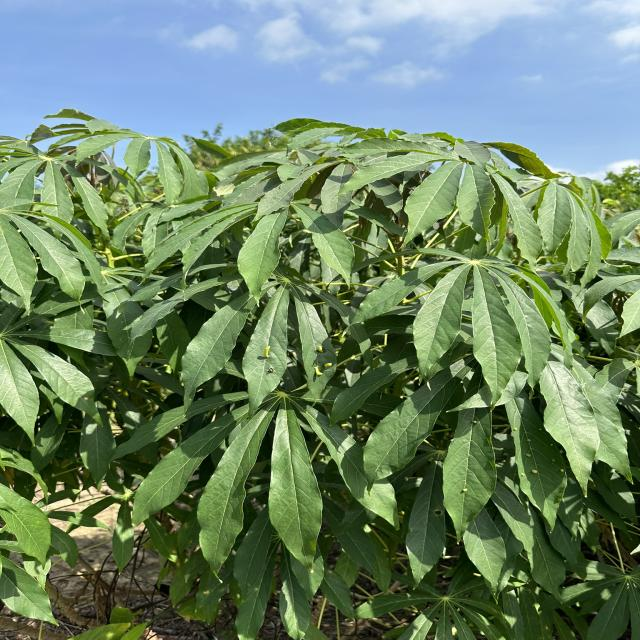Mosca: (520, 429, 539, 462), (310, 357, 334, 379), (222, 540, 245, 559), (549, 454, 568, 476), (523, 464, 542, 482), (460, 415, 481, 429), (78, 391, 95, 407), (228, 590, 248, 600), (312, 342, 326, 356), (261, 342, 271, 359), (458, 487, 471, 496)
